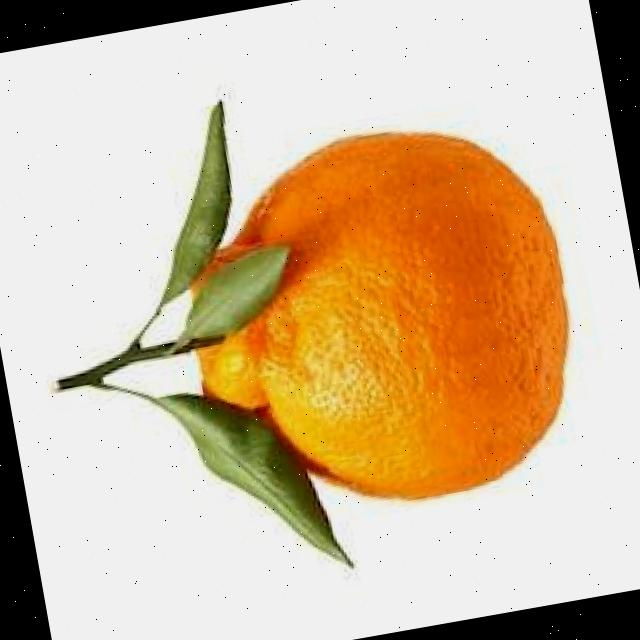Ripe: (150, 98, 598, 534)
